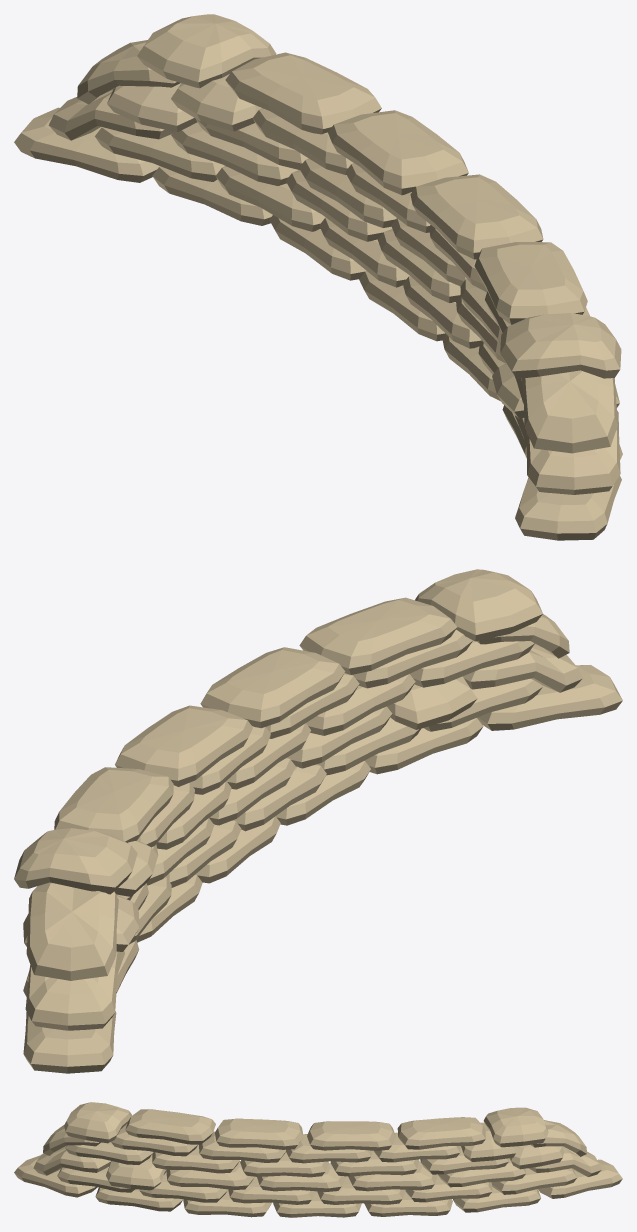
The model's file is sandbags.glb.
The picture shows the model from 3 angles, top to bottom: view 1: azimuth 30°, elevation 25°; view 2: azimuth 150°, elevation 25°; view 3: azimuth 270°, elevation 25°; orthographic projection. The views are drawn at different scales.
Visible parts, largest first — view 1: Plane_034; view 2: Plane_034; view 3: Plane_034.
Boxes of the visible parts, x1,y1,x2,y2 form: Plane_034: (14, 14, 622, 540); Plane_034: (14, 569, 622, 1073); Plane_034: (14, 1102, 622, 1217).
Size of the model in its own units: 3.33 by 2.35 by 15.34.
